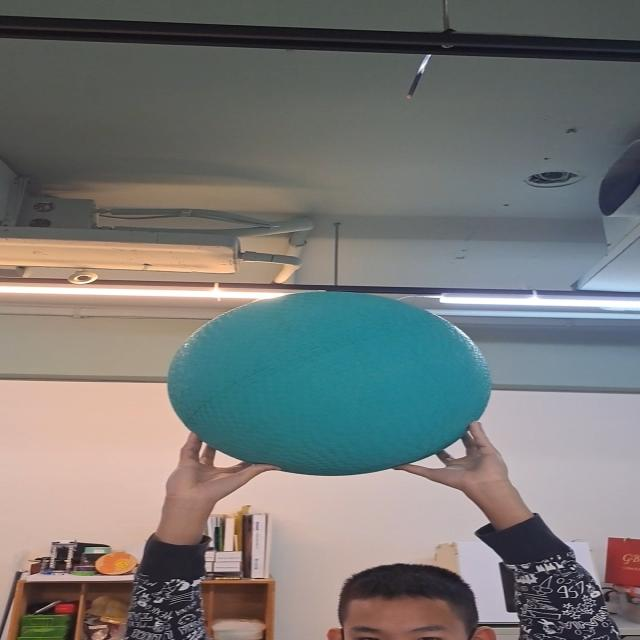ALGAE: (170, 290, 494, 477)
